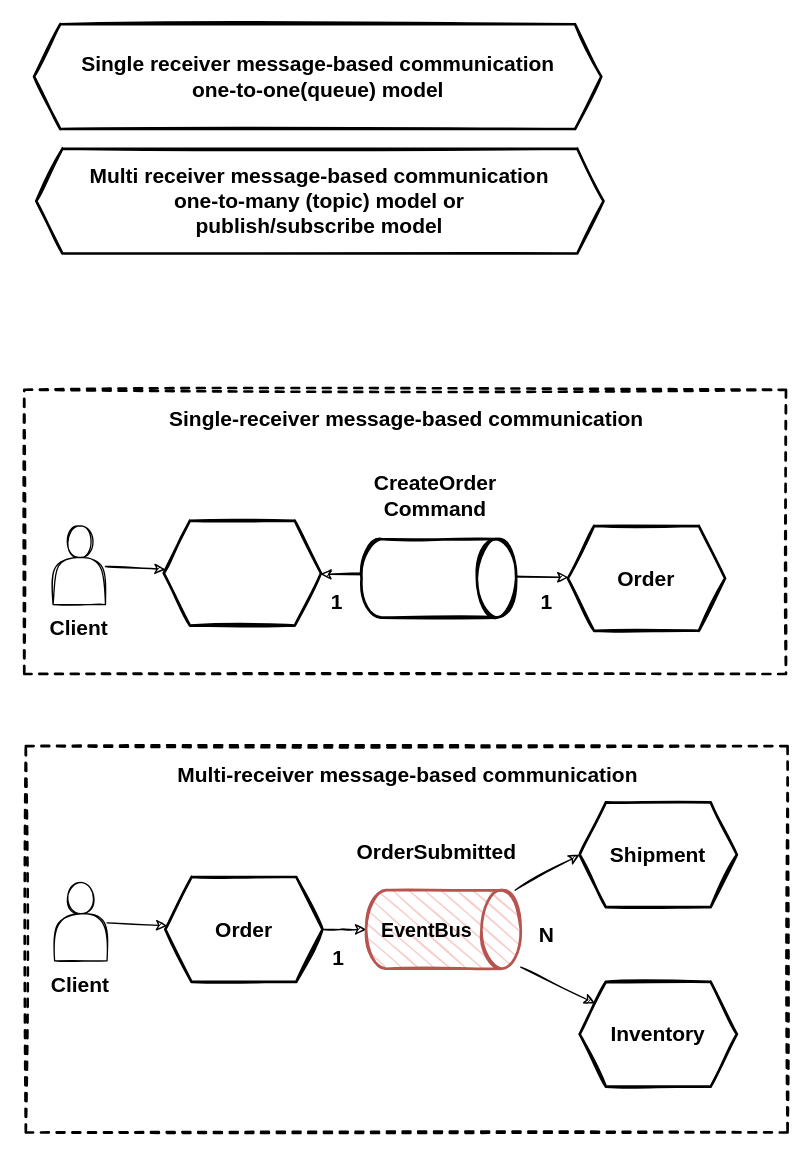
Some shapes in this 811 by 1155 pixel diagram are drawn without their labels. Each missing label, with the centre of its shape:
Basket: (242,572)
Queue: (438,577)
